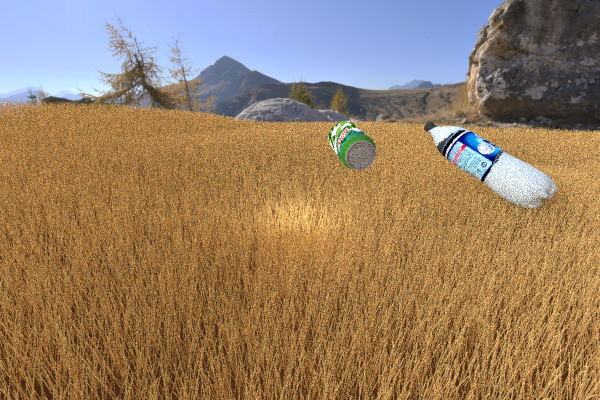Plastic Bottle: (423, 121, 557, 209), (328, 121, 376, 170), (208, 117, 258, 142)
